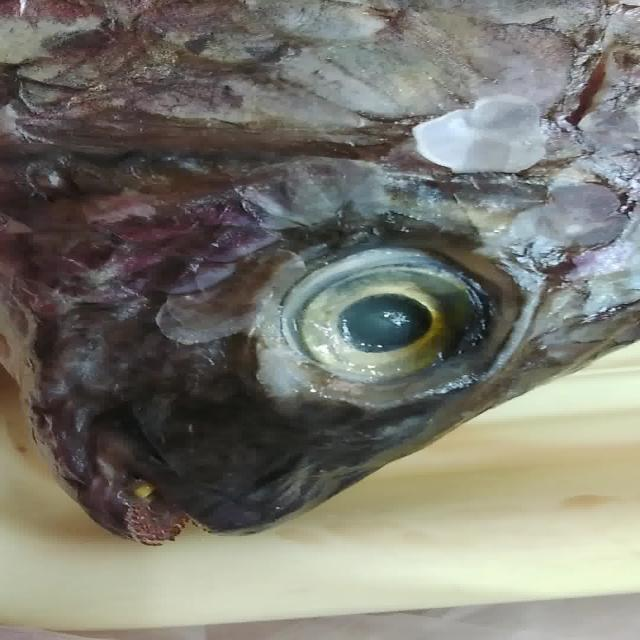Non-Fresh: (229, 202, 539, 439)
